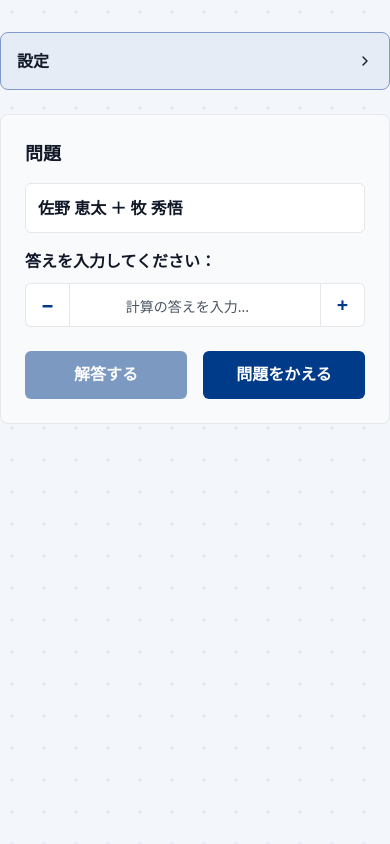
Question Component › renders initial state correctly
Open settings
Click the button "設定" at x=33, y=61, box [1,33,389,89]
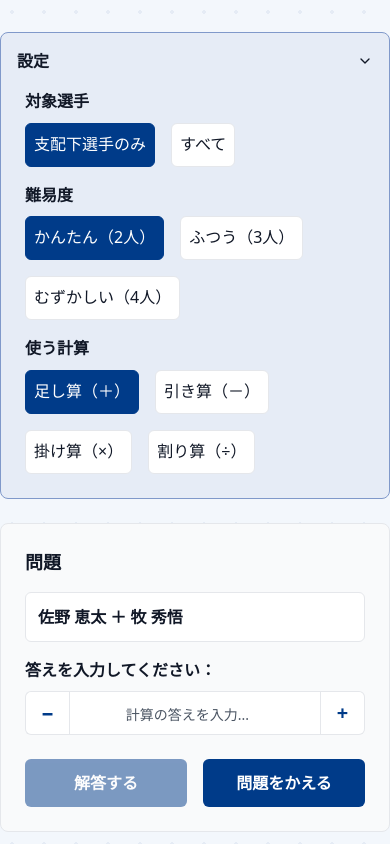
Now the text "対象選手" is shown, box [25,90,89,112]
Now the text "難易度" is shown, box [25,184,73,206]
Now the radio button "支配下選手のみ" is shown, box [25,123,155,167]
